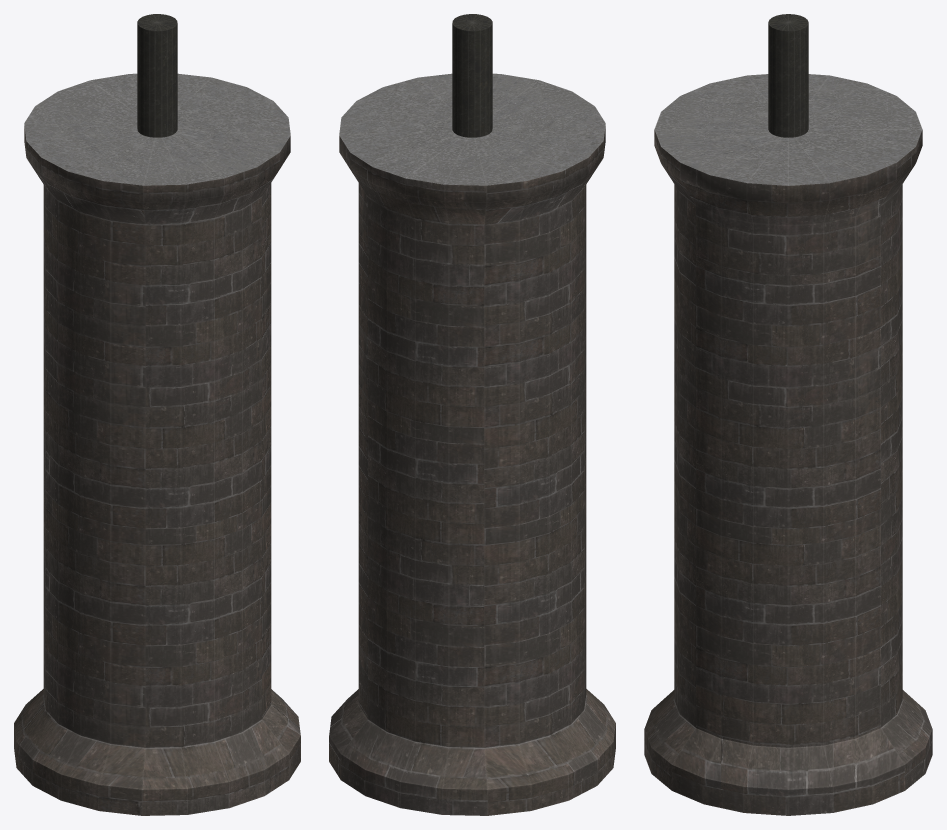
File: CannonTowerBase.fbx
3 renders of one model, left to right at view 1: azimuth 30°, elevation 25°; view 2: azimuth 150°, elevation 25°; view 3: azimuth 270°, elevation 25°, orthographic.
Visible parts, largest first — view 1: pCylinder1; view 2: pCylinder1; view 3: pCylinder1.
Boxes of the visible parts, x1,y1,x2,y2 form: pCylinder1: [14, 14, 300, 815]; pCylinder1: [329, 14, 615, 815]; pCylinder1: [644, 14, 932, 815].
Size of the model in its own units: 20 by 56.1 by 20.
Materials: 1 (1 with a texture image).
